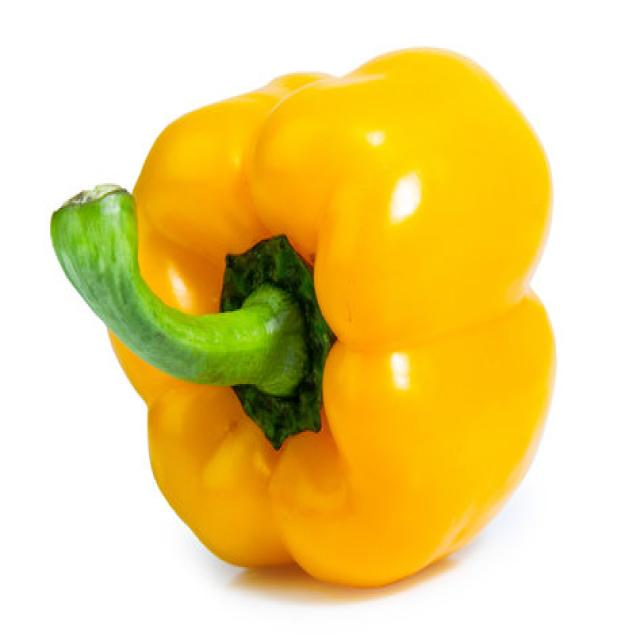Bell Pepper: (49, 54, 564, 582)
